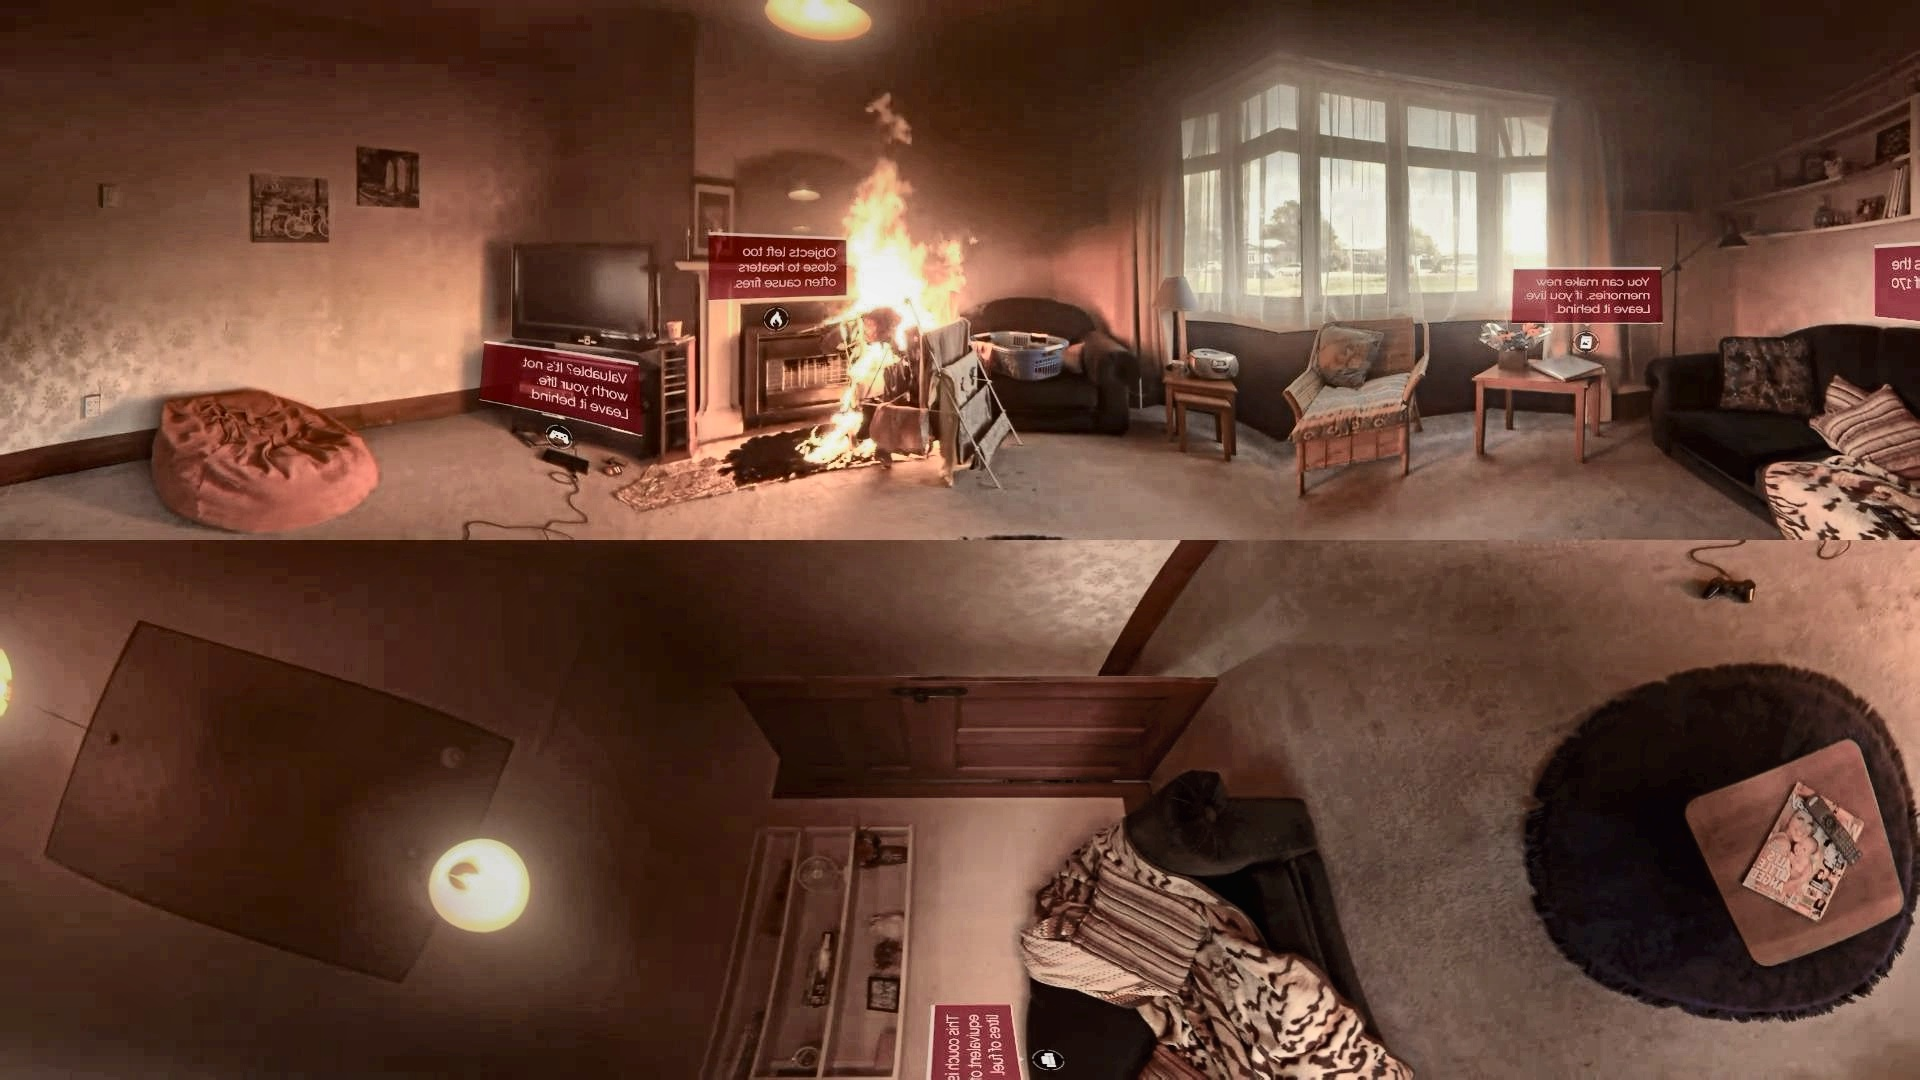fire: (828, 111, 977, 439)
